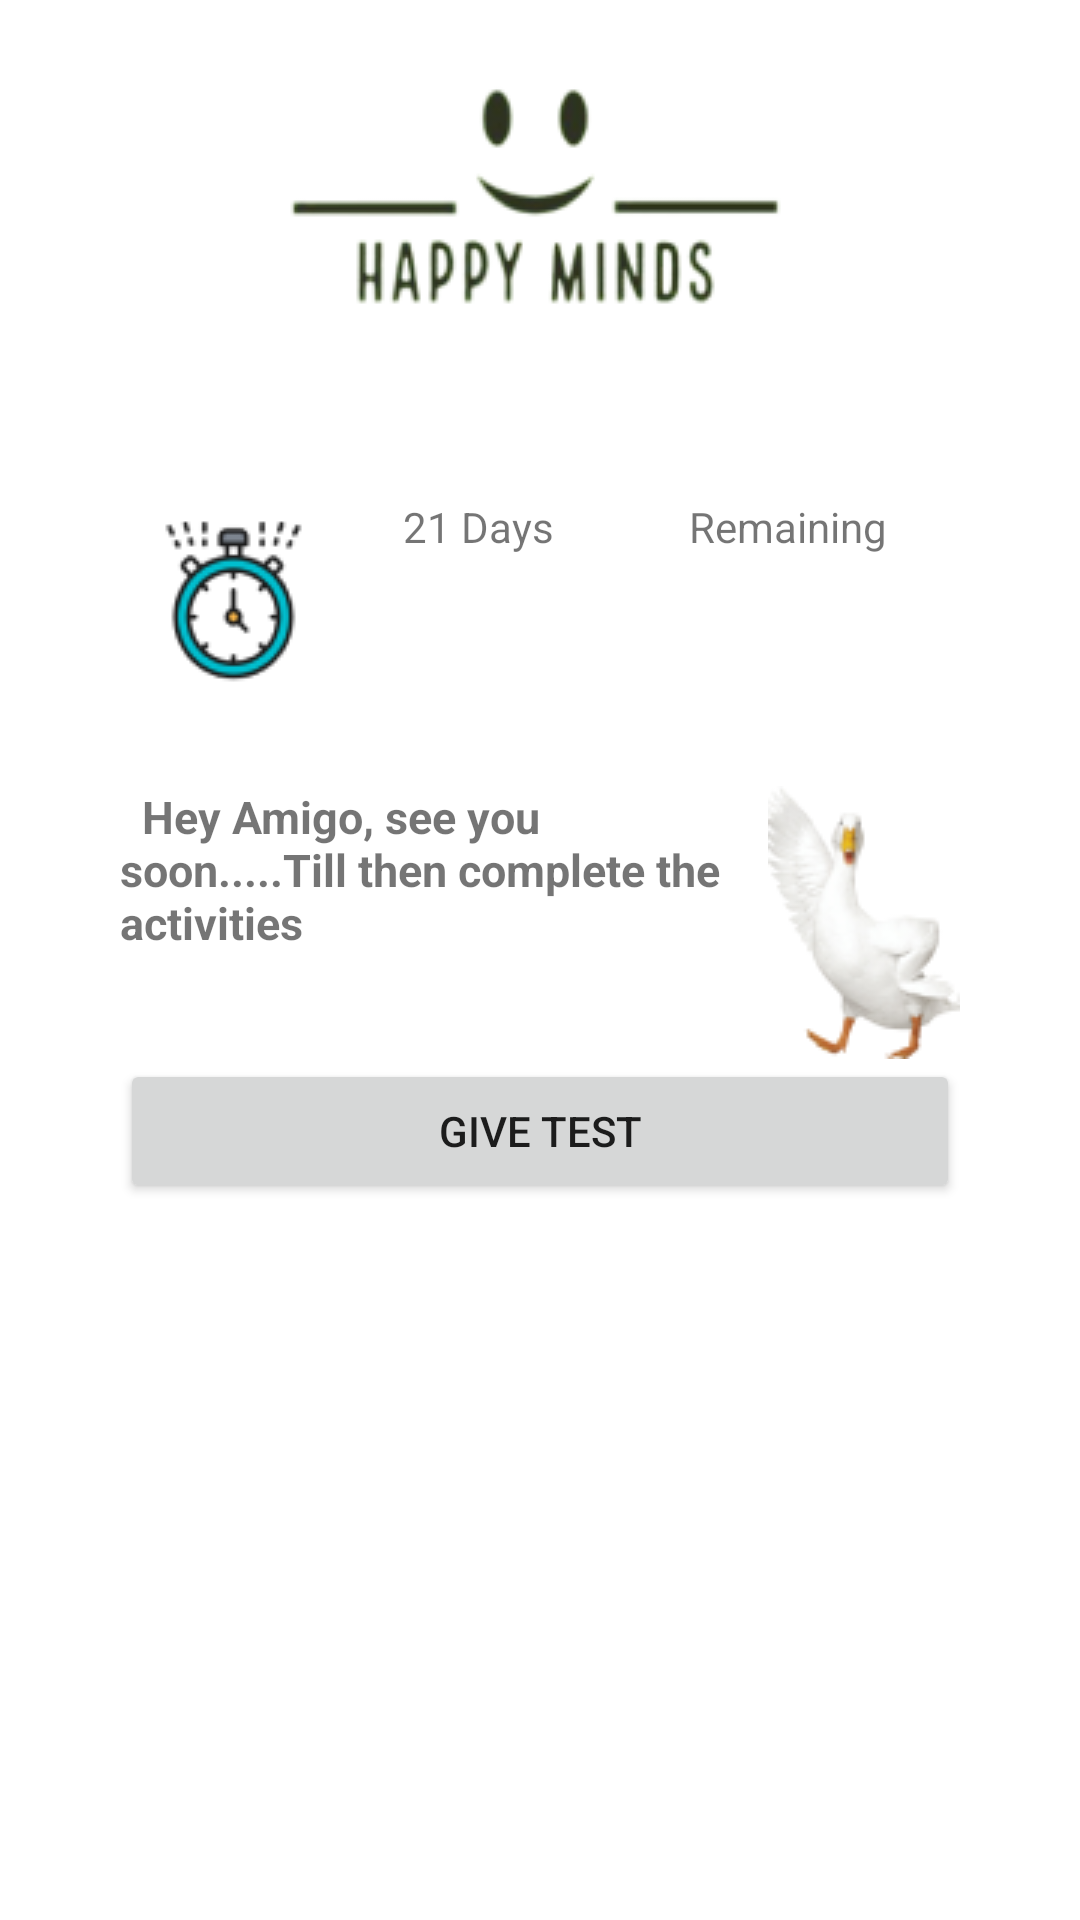

Icons on this 1080w x 1920h Android screen, each with its box as (x1, y1, x2, y2):
studenttesttimer: (165, 521, 302, 681)
